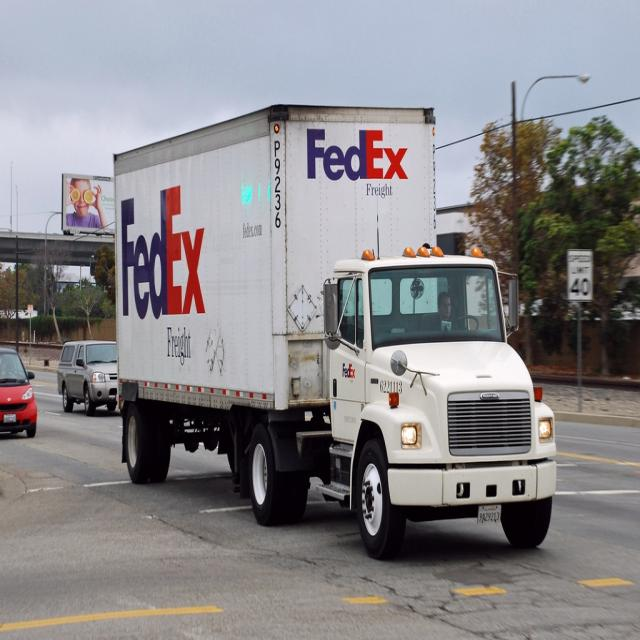fedex: (117, 182, 211, 323), (304, 124, 414, 184)
